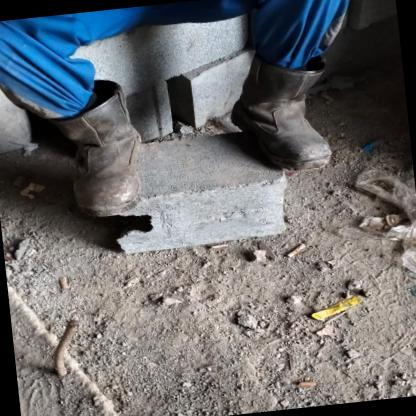bota: (223, 50, 338, 179), (37, 91, 157, 212)
